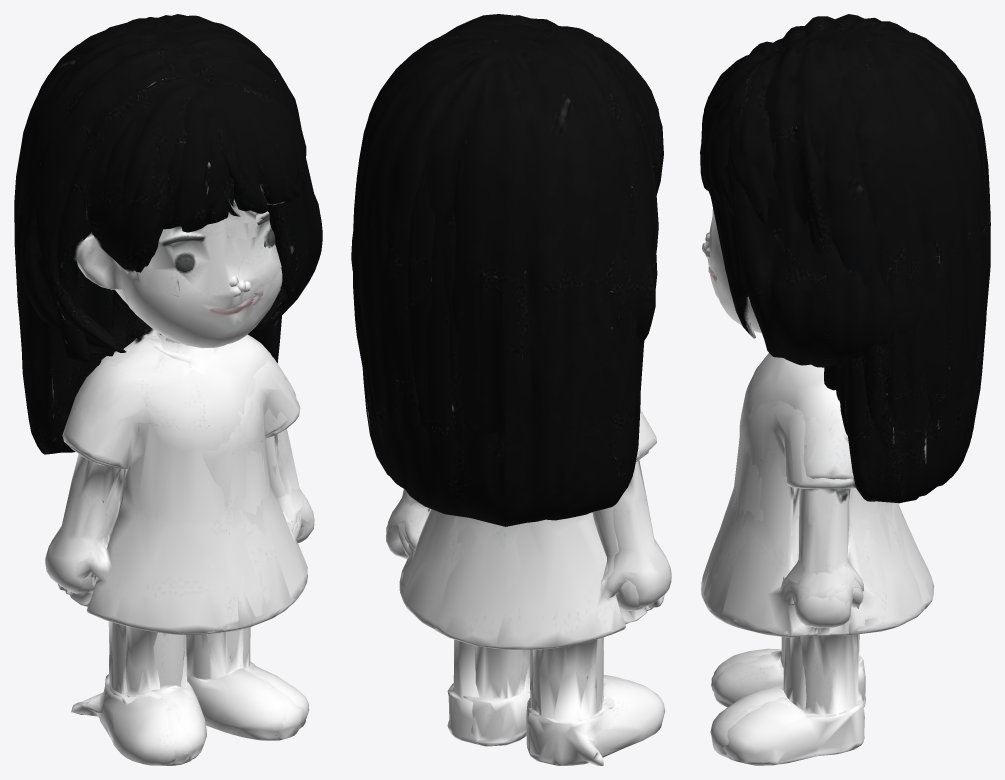
The model's file is girls.glb.
3 views of the same model, side by side, from view 1: azimuth 30°, elevation 25°; view 2: azimuth 150°, elevation 25°; view 3: azimuth 270°, elevation 25° (orthographic). The views are drawn at different scales.
Visible parts, largest first — view 1: girl4, girl3, girl1, girl2; view 2: girl1, girl4, girl2, girl3; view 3: girl1, girl4, girl2, girl3.
Part boxes in pixels (box(x1,y1,x2,y2)): girl4: box(16, 19, 322, 765); girl3: box(22, 17, 305, 763); girl1: box(14, 14, 314, 759); girl2: box(18, 16, 311, 765); girl1: box(354, 27, 644, 742); girl4: box(351, 14, 671, 765); girl2: box(353, 23, 650, 746); girl3: box(397, 19, 663, 749); girl1: box(701, 27, 989, 765); girl4: box(701, 14, 975, 729); girl2: box(700, 22, 990, 699); girl3: box(701, 25, 989, 757).
Size of the model in its own units: 0.4254 by 0.9998 by 0.3828.
1 material, 1 textured.
